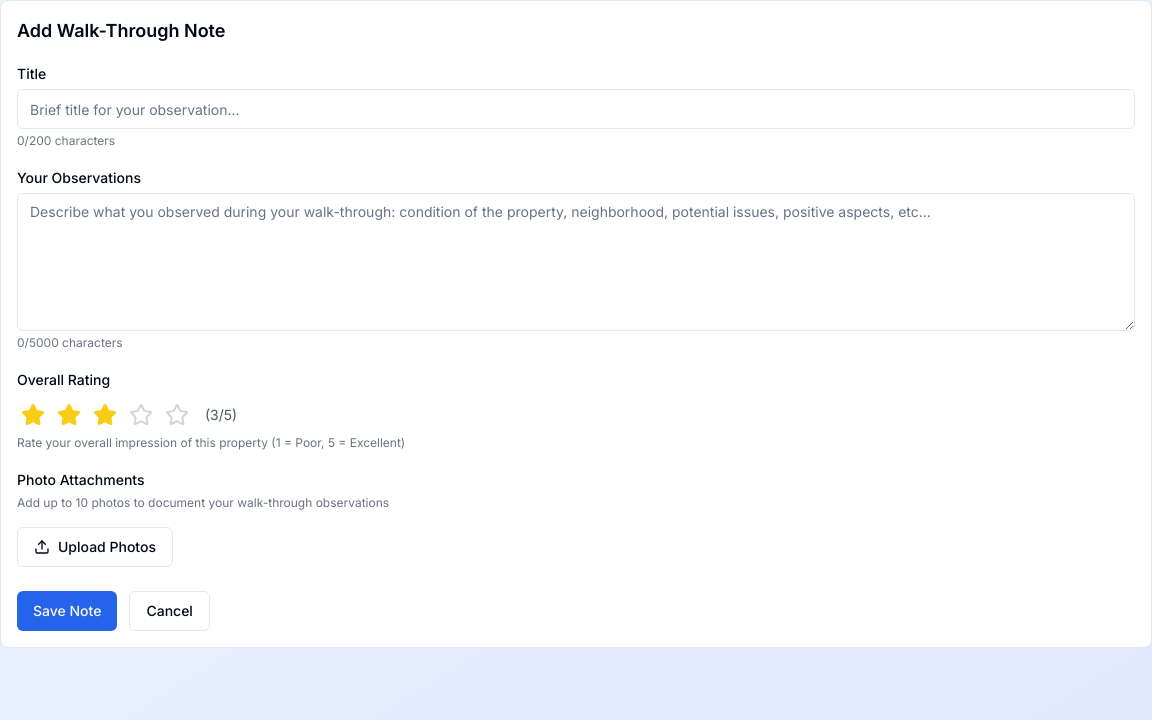
WalkThroughNoteForm Component › shows hover effects on star rating
# Hover over 4th star
Hover over the 4th button at [141, 415], box [125,399,157,431]
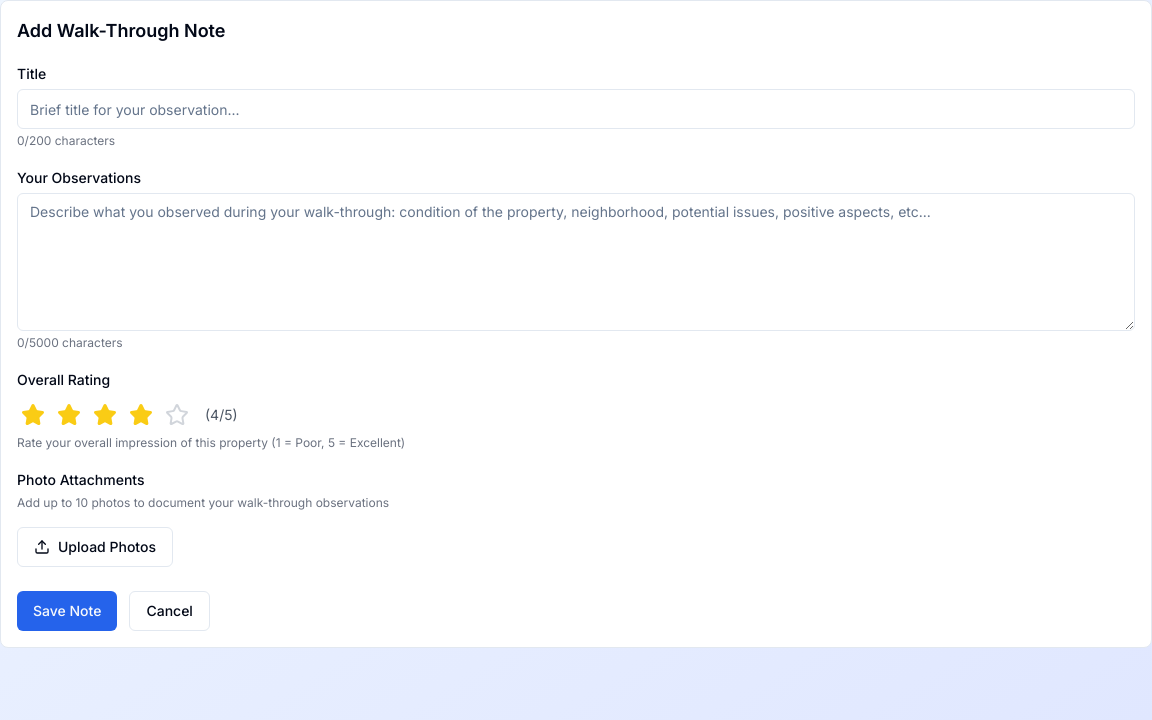
Expected: the text "(4/5)" is shown, [205,405,238,425]
# Mouse leave should return to original rating
Move the pointer off the 4th button, box [125,399,157,431]
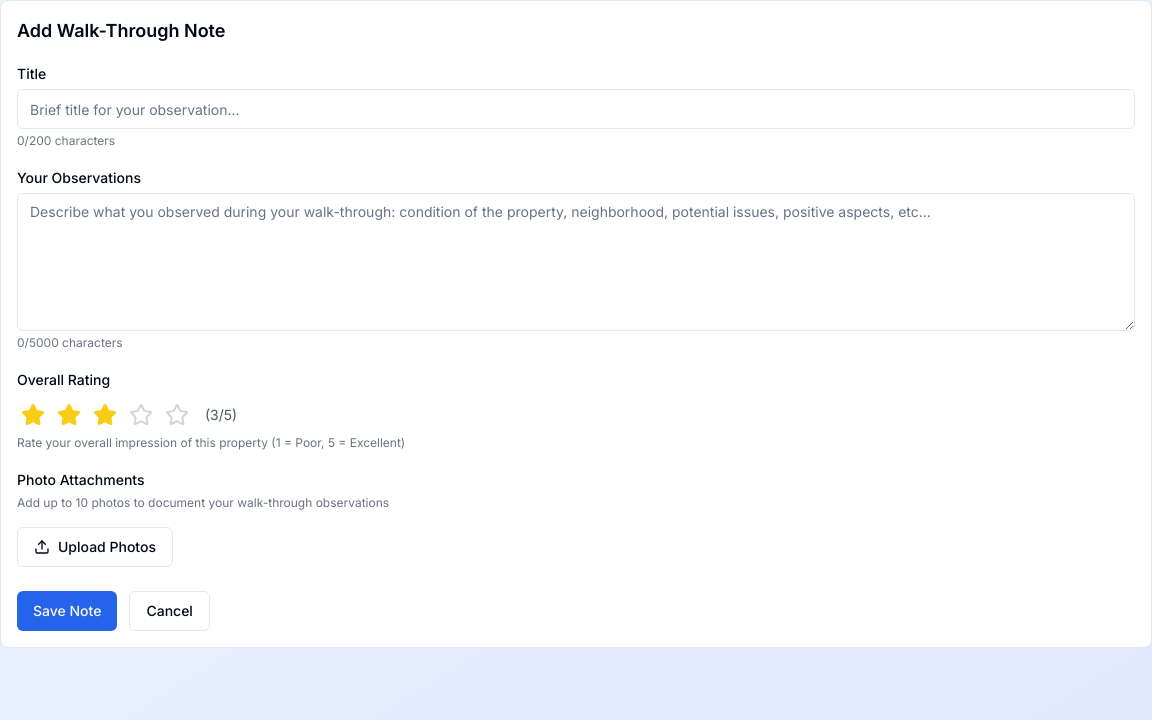
Expected: the text "(3/5)" is shown, [205,405,237,425]
